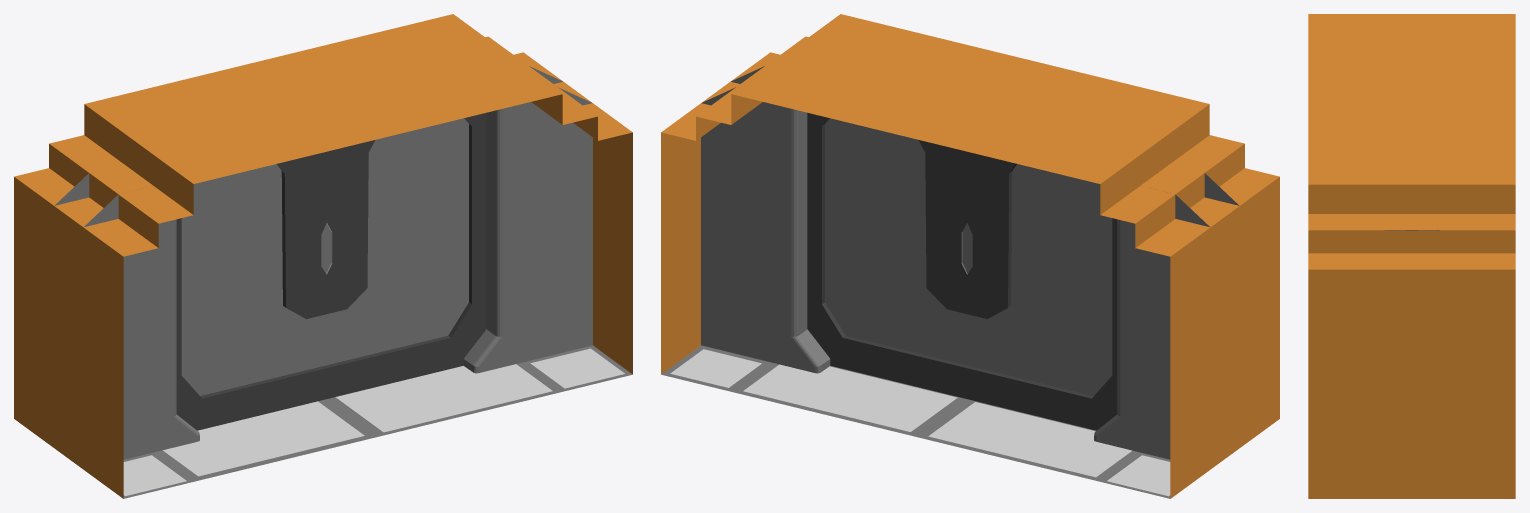
Rendered from DoorLooby.fbx.
The picture shows the model from 3 angles, left to right: view 1: azimuth 30°, elevation 25°; view 2: azimuth 150°, elevation 25°; view 3: azimuth 270°, elevation 25°; orthographic projection. The views are drawn at different scales.
Visible parts, largest first — view 1: Door, DoorLeft, DoorRight; view 2: Door, DoorLeft, DoorRight; view 3: Door.
Boxes of the visible parts, x1,y1,x2,y2 form: Door: (14, 14, 632, 498); DoorLeft: (323, 112, 486, 398); DoorRight: (176, 152, 326, 430); Door: (661, 14, 1279, 498); DoorLeft: (807, 112, 970, 398); DoorRight: (967, 152, 1117, 430); Door: (1308, 14, 1515, 498).
Bounding box in the file's own units: 545 × 305 × 203.
